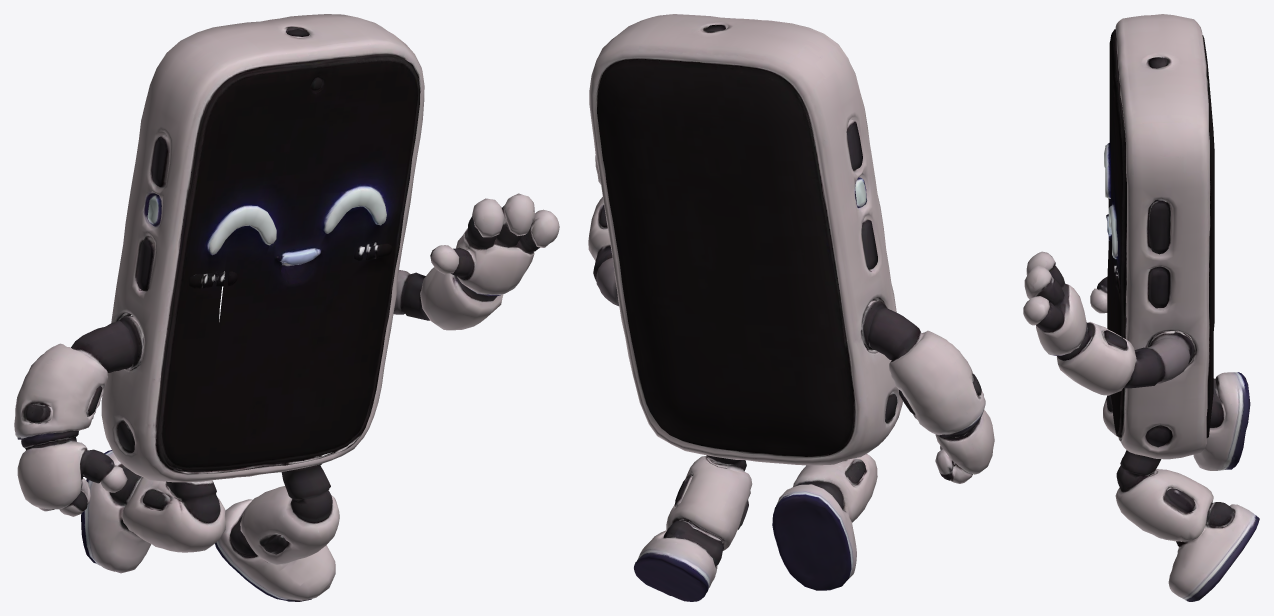
Rendered from pirophone.glb.
3 views of the same model, side by side, from view 1: azimuth 30°, elevation 25°; view 2: azimuth 150°, elevation 25°; view 3: azimuth 270°, elevation 25° (orthographic). The views are drawn at different scales.
Visible parts, largest first — view 1: tripo_node_0bdfe374-1112-45d9-809a-0ea83575762f; view 2: tripo_node_0bdfe374-1112-45d9-809a-0ea83575762f; view 3: tripo_node_0bdfe374-1112-45d9-809a-0ea83575762f.
Boxes of the visible parts, bbox=[...] form: tripo_node_0bdfe374-1112-45d9-809a-0ea83575762f: bbox=[14, 14, 559, 601]; tripo_node_0bdfe374-1112-45d9-809a-0ea83575762f: bbox=[588, 14, 994, 601]; tripo_node_0bdfe374-1112-45d9-809a-0ea83575762f: bbox=[1023, 14, 1259, 601].
Size of the model in its own units: 0.8115 by 0.9757 by 0.3914.
Materials: 1 (1 with a texture image).
